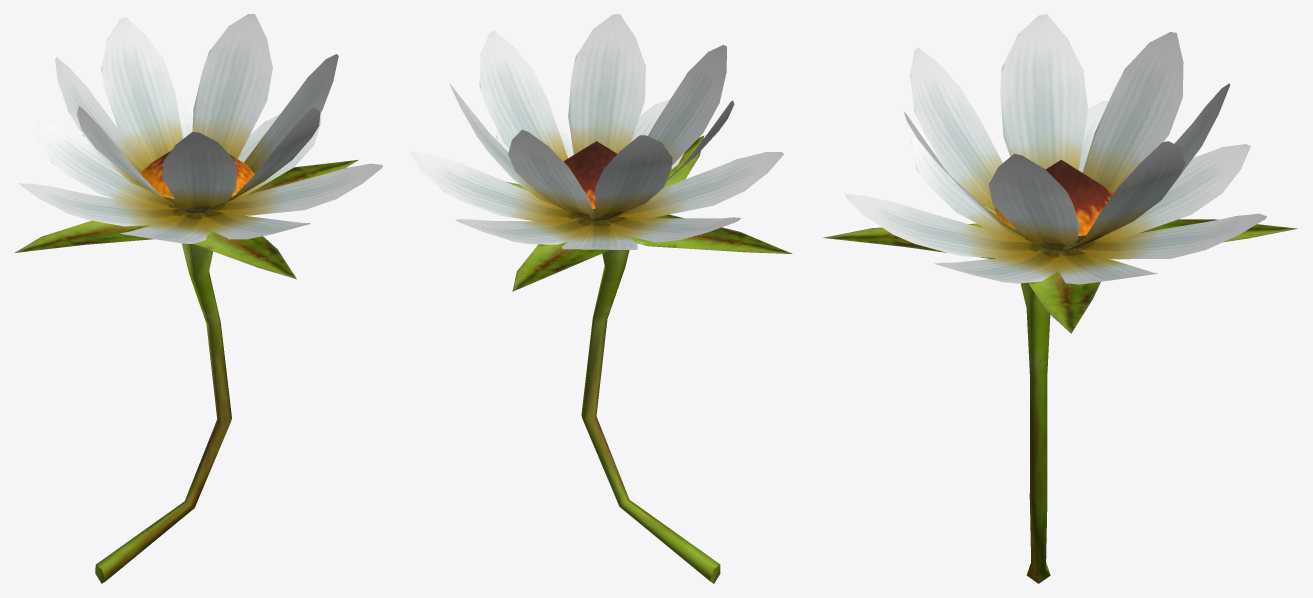
Rendered from Waterlily_Whiteflower.FBX.
3 views of the same model, side by side, from view 1: azimuth 30°, elevation 25°; view 2: azimuth 150°, elevation 25°; view 3: azimuth 270°, elevation 25° (orthographic). The views are drawn at different scales.
Parts seen in each view (by area): view 1: Waterlily_Whiteflower; view 2: Waterlily_Whiteflower; view 3: Waterlily_Whiteflower.
Part boxes in pixels (x1,y1,x2,y2): Waterlily_Whiteflower: (15,14,382,583); Waterlily_Whiteflower: (411,14,792,583); Waterlily_Whiteflower: (823,14,1297,583).
Size of the model in its own units: 10.34 by 13.39 by 10.34.
